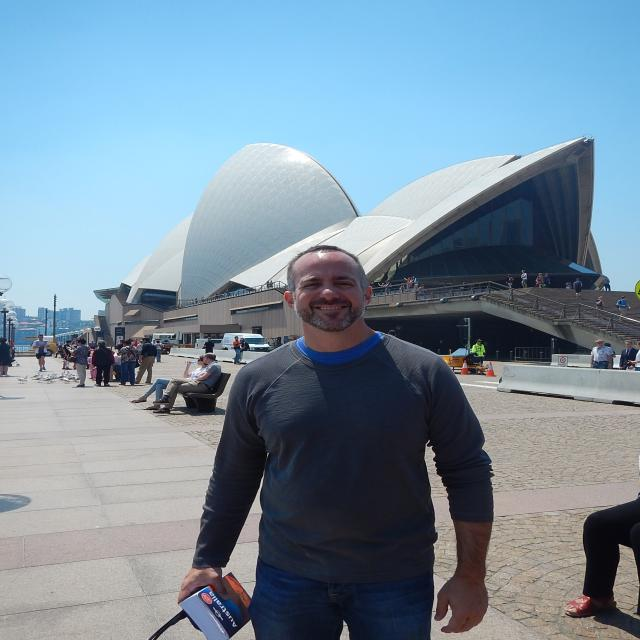body: (173, 245, 499, 640), (553, 480, 640, 626), (129, 354, 208, 410), (151, 352, 222, 414), (92, 339, 116, 387), (116, 338, 140, 386), (134, 337, 157, 384), (72, 337, 90, 387), (589, 338, 614, 370), (377, 275, 418, 294), (31, 334, 51, 372), (471, 338, 487, 374), (618, 340, 637, 370), (0, 337, 13, 377), (614, 294, 632, 322), (54, 340, 76, 360), (232, 338, 250, 359), (86, 350, 98, 380), (62, 339, 73, 370), (232, 335, 243, 365), (5, 337, 16, 367), (152, 340, 166, 363), (604, 342, 616, 368), (630, 340, 640, 371), (595, 295, 607, 320), (203, 337, 215, 354), (573, 278, 583, 298), (213, 289, 232, 299), (189, 295, 206, 306), (520, 270, 530, 288), (505, 273, 515, 290), (387, 328, 402, 338), (136, 339, 144, 357), (535, 273, 544, 288), (562, 278, 573, 290), (460, 282, 469, 296), (116, 340, 126, 352), (603, 276, 611, 291), (542, 273, 550, 288), (264, 280, 275, 290), (132, 338, 141, 348), (88, 339, 96, 350), (128, 338, 139, 346), (417, 284, 427, 292), (84, 344, 94, 351), (150, 338, 158, 346), (29, 341, 34, 346), (86, 364, 90, 370)
